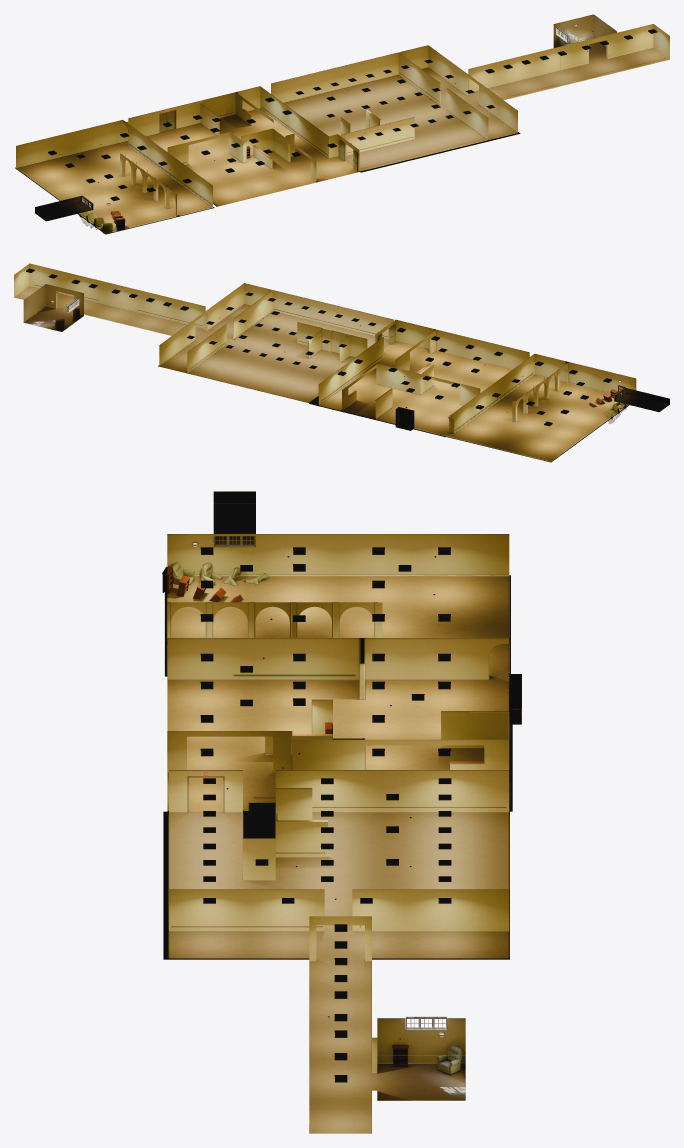
File: lobby.glb
The picture shows the model from 3 angles, top to bottom: view 1: azimuth 30°, elevation 25°; view 2: azimuth 150°, elevation 25°; view 3: azimuth 270°, elevation 25°; orthographic projection. The views are drawn at different scales.
Parts seen in each view (by area): view 1: Object_24, Object_18, Object_30, Object_28, Object_38, Object_34, Object_14, Object_22, Object_52, Object_36, Object_42, Object_44 (+2 smaller); view 2: Object_24, Object_30, Object_18, Object_28, Object_38, Object_14, Object_34, Object_22, Object_52, Object_36, Object_42, Object_32 (+2 smaller); view 3: Object_24, Object_18, Object_28, Object_38, Object_30, Object_34, Object_22, Object_52, Object_14, Object_44, Object_32, Object_6 (+2 smaller).
Part boxes in pixels (left/top/right/bottom): Object_24: left=283, top=67, right=520, bottom=172; Object_18: left=271, top=45, right=517, bottom=155; Object_30: left=15, top=141, right=214, bottom=234; Object_28: left=126, top=108, right=358, bottom=206; Object_38: left=125, top=86, right=359, bottom=181; Object_34: left=16, top=120, right=212, bottom=221; Object_14: left=468, top=14, right=669, bottom=94; Object_22: left=468, top=38, right=668, bottom=102; Object_52: left=48, top=30, right=656, bottom=200; Object_36: left=16, top=14, right=669, bottom=233; Object_42: left=129, top=58, right=665, bottom=203; Object_44: left=79, top=37, right=570, bottom=233; Object_24: left=158, top=304, right=389, bottom=403; Object_30: left=446, top=374, right=629, bottom=462; Object_18: left=159, top=283, right=393, bottom=372; Object_28: left=309, top=341, right=512, bottom=437; Object_38: left=318, top=319, right=529, bottom=432; Object_14: left=14, top=263, right=205, bottom=330; Object_34: left=449, top=353, right=669, bottom=433; Object_22: left=15, top=286, right=205, bottom=338; Object_52: left=26, top=269, right=611, bottom=426; Object_36: left=14, top=284, right=628, bottom=461; Object_42: left=34, top=284, right=532, bottom=430; Object_32: left=49, top=274, right=584, bottom=414; Object_24: left=163, top=811, right=509, bottom=959; Object_18: left=169, top=770, right=509, bottom=931; Object_28: left=167, top=677, right=512, bottom=811; Object_38: left=167, top=638, right=521, bottom=772; Object_30: left=164, top=575, right=510, bottom=677; Object_34: left=167, top=491, right=509, bottom=637; Object_22: left=309, top=959, right=465, bottom=1133; Object_52: left=200, top=549, right=451, bottom=1082; Object_14: left=309, top=916, right=465, bottom=1072; Object_44: left=171, top=562, right=463, bottom=1075; Object_32: left=240, top=565, right=424, bottom=1060; Object_6: left=162, top=567, right=408, bottom=1067.
Size of the model in its own units: 80.54 by 4.09 by 20.36.
28 materials, 27 textured.
